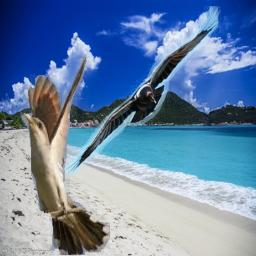Crow: (62, 6, 221, 175)
Cuckoo: (22, 56, 110, 255)
